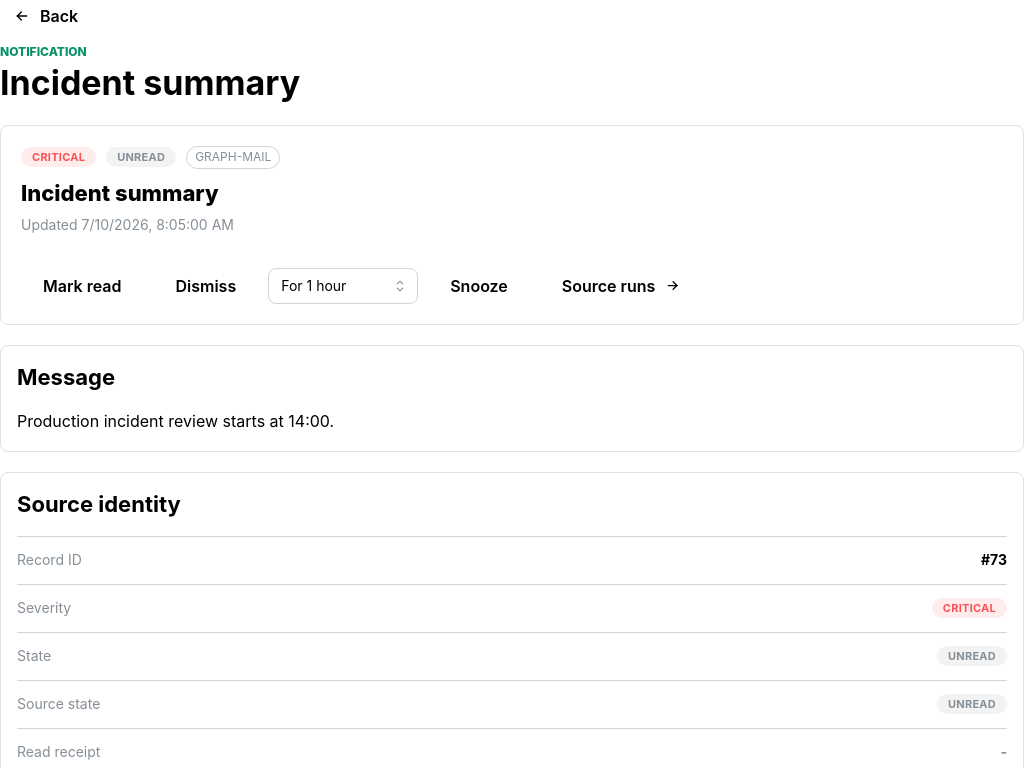
Scenario: NotificationDetailView actions › marks a notification read and unread using the receipt endpoints
The image size is (1024, 768).
Click the button "Mark read".
click(82, 286)  # box [21,268,144,304]
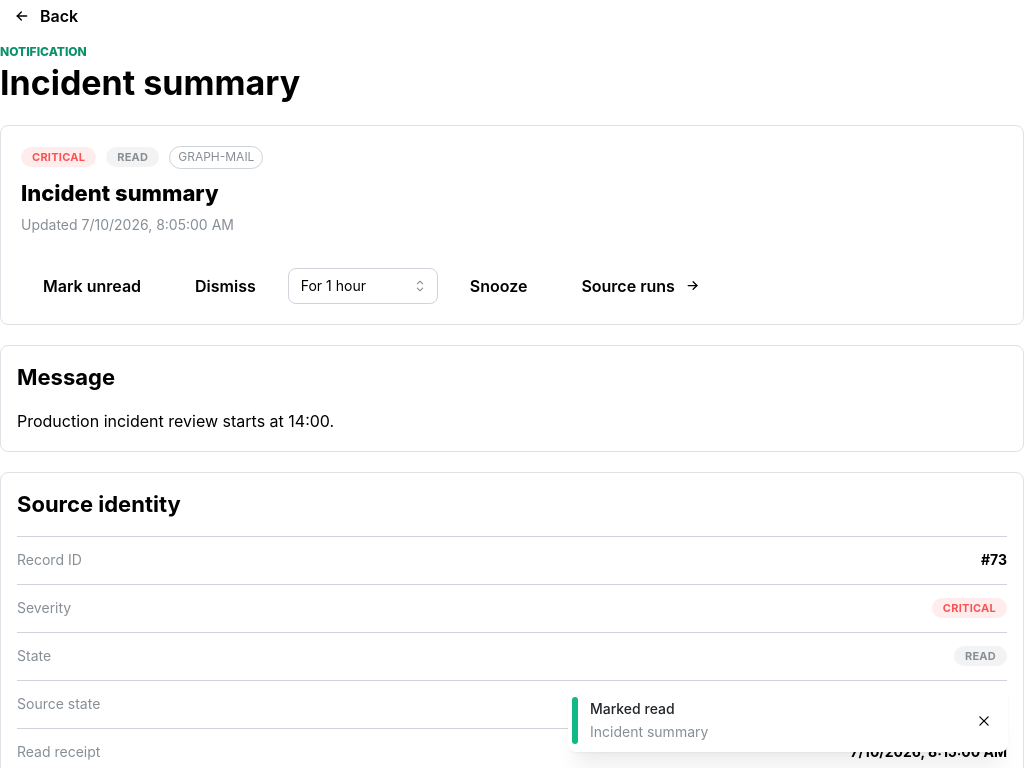
Check: the button "Mark unread" is shown
Click the button "Mark unread".
click(92, 286)  # box [21,268,163,304]
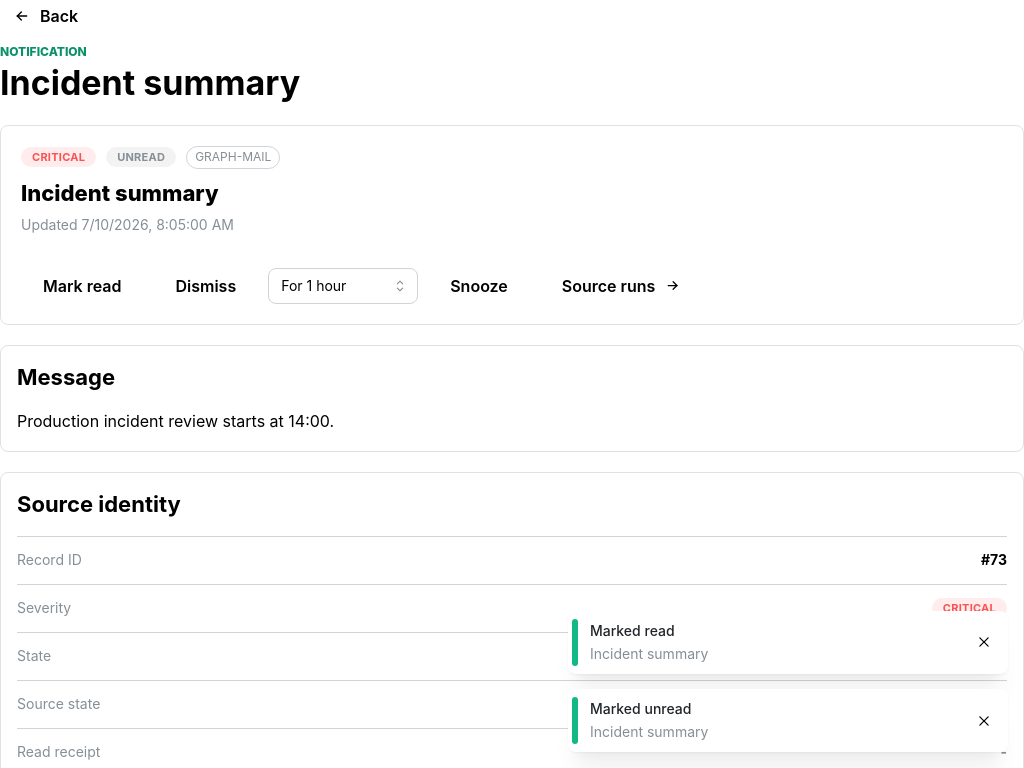
Check: the button "Mark read" is shown, box [21,268,144,304]
